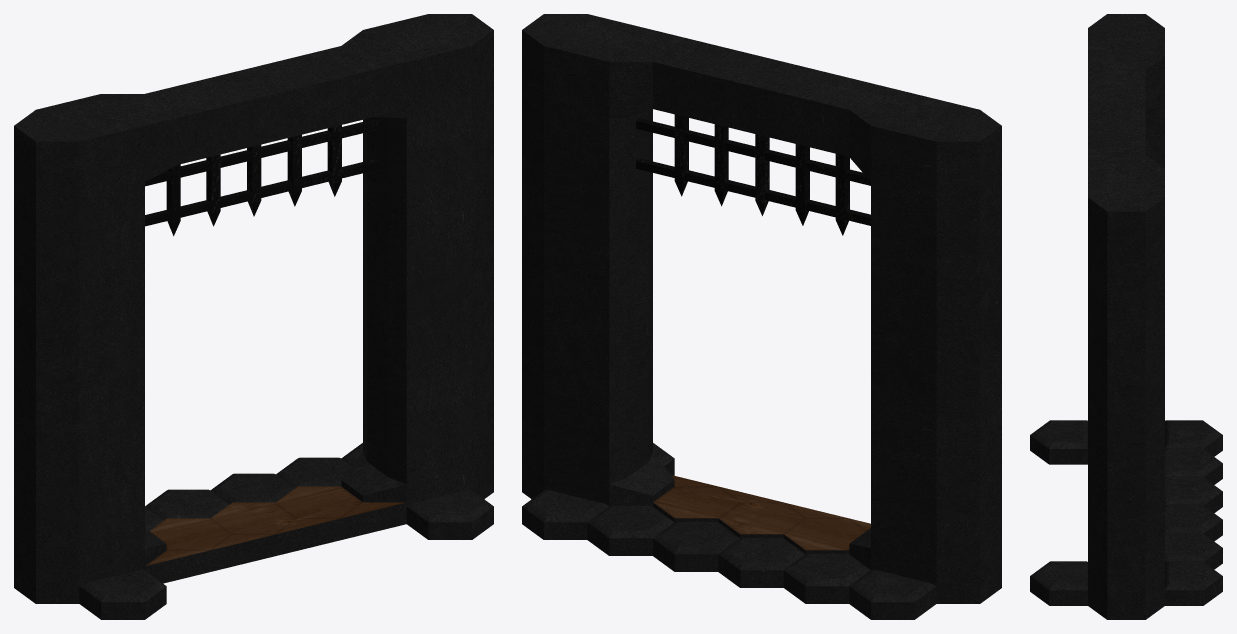
Rendered from DAEdbframe.dae.
3 renders of one model, left to right at view 1: azimuth 30°, elevation 25°; view 2: azimuth 150°, elevation 25°; view 3: azimuth 270°, elevation 25°, orthographic. The views are drawn at different scales.
Visible parts, largest first — view 1: DrawBridge_Frame; view 2: DrawBridge_Frame; view 3: DrawBridge_Frame.
Boxes of the visible parts, x1=… form: DrawBridge_Frame: x1=14, y1=14, x2=493, y2=619; DrawBridge_Frame: x1=522, y1=14, x2=1001, y2=619; DrawBridge_Frame: x1=1030, y1=14, x2=1222, y2=619.
Bounding box in the file's own units: 12.12 × 5 × 11.69.
Materials: 1 (1 with a texture image).
